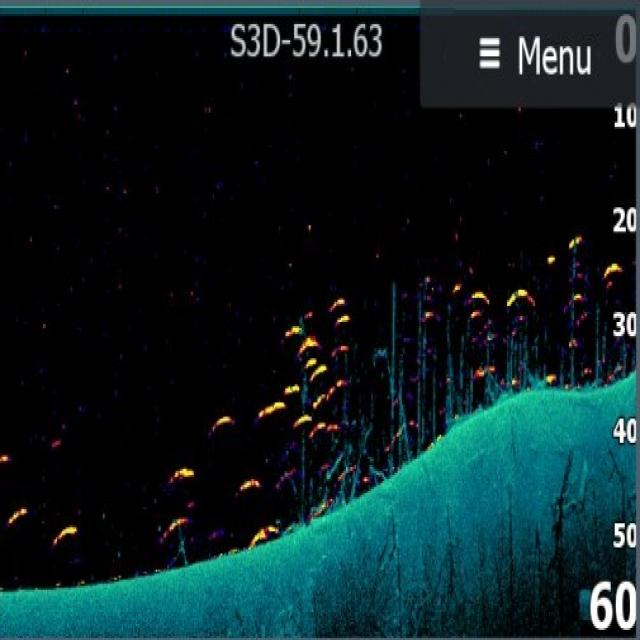fish: (247, 516, 278, 548), (503, 280, 535, 310), (160, 510, 188, 540), (206, 406, 234, 434), (256, 396, 286, 421), (51, 520, 76, 548), (600, 253, 624, 280), (236, 471, 261, 495), (168, 461, 192, 485), (294, 332, 319, 354), (304, 416, 326, 438), (561, 288, 583, 310), (328, 286, 345, 312), (6, 503, 27, 523), (328, 338, 349, 358), (565, 230, 584, 252), (465, 284, 488, 302), (283, 320, 303, 338), (472, 362, 494, 378), (309, 362, 326, 382), (309, 388, 326, 408), (331, 374, 348, 394), (291, 412, 312, 427), (333, 308, 350, 324), (283, 378, 299, 394), (303, 354, 317, 370)
